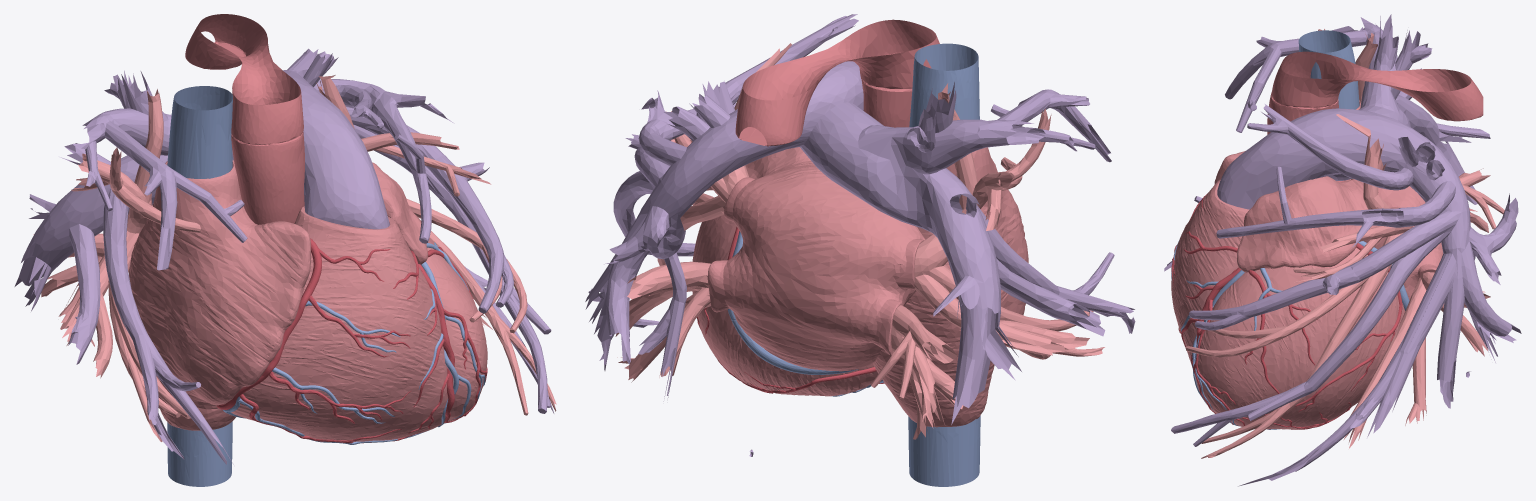
Rendered from heart.glb.
3 renders of one model, left to right at view 1: azimuth 30°, elevation 25°; view 2: azimuth 150°, elevation 25°; view 3: azimuth 270°, elevation 25°, orthographic. The views are drawn at different scales.
Parts seen in each view (by area): view 1: wall, pulmonary_artery, pulmonary_veins, aorta_arch, svc, aorta_ascending, ivc, rca_marginal, lad, anterior_cardiac_veins, great_cardiac_vein, rca; view 2: pulmonary_artery, wall, pulmonary_veins, aorta_arch, svc, ivc, aorta_ascending, coronary_sinus; view 3: pulmonary_artery, wall, pulmonary_veins, aorta_arch, lad, svc, great_cardiac_vein, lcx, aorta_ascending.
Part boxes in pixels (<box>): wall: <box>129,160,487,441</box>; pulmonary_artery: <box>14,48,554,464</box>; pulmonary_veins: <box>33,75,556,441</box>; aorta_arch: <box>185,14,303,144</box>; svc: <box>167,86,232,178</box>; aorta_ascending: <box>231,132,304,224</box>; ivc: <box>167,421,232,486</box>; rca_marginal: <box>239,248,420,443</box>; lad: <box>393,247,487,433</box>; anterior_cardiac_veins: <box>223,301,428,444</box>; great_cardiac_vein: <box>418,242,485,424</box>; rca: <box>216,238,321,410</box>; pulmonary_artery: <box>585,14,1135,456</box>; wall: <box>692,147,1028,427</box>; pulmonary_veins: <box>615,43,1104,439</box>; aorta_arch: <box>735,19,939,146</box>; svc: <box>909,43,979,127</box>; ivc: <box>908,415,980,486</box>; aorta_ascending: <box>861,80,912,127</box>; coronary_sinus: <box>732,319,858,374</box>; pulmonary_artery: <box>1164,14,1521,486</box>; wall: <box>1171,100,1443,429</box>; pulmonary_veins: <box>1185,29,1504,458</box>; aorta_arch: <box>1271,51,1483,121</box>; lad: <box>1181,231,1317,425</box>; svc: <box>1298,30,1359,109</box>; great_cardiac_vein: <box>1181,241,1409,410</box>; lcx: <box>1264,243,1402,415</box>; aorta_ascending: <box>1267,92,1345,181</box>.
Bounding box in the file's own units: 5.39 × 4.43 × 4.15.
